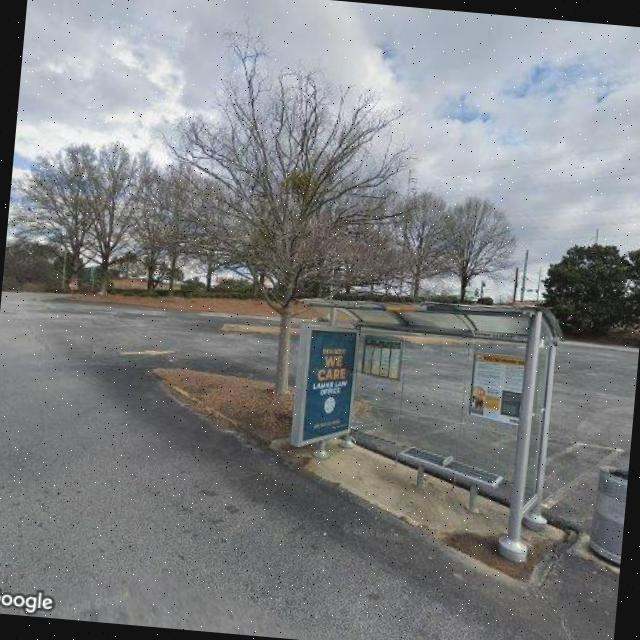seating: (393, 444, 504, 516)
shelter: (276, 284, 566, 561)
trash_can: (586, 462, 628, 570)
